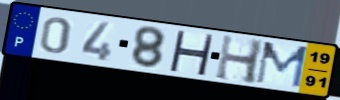0: (38, 16, 76, 54)
4: (79, 20, 114, 62)
8: (128, 25, 168, 71)
H: (213, 33, 266, 86), (166, 29, 216, 77)
M: (253, 40, 311, 90)
